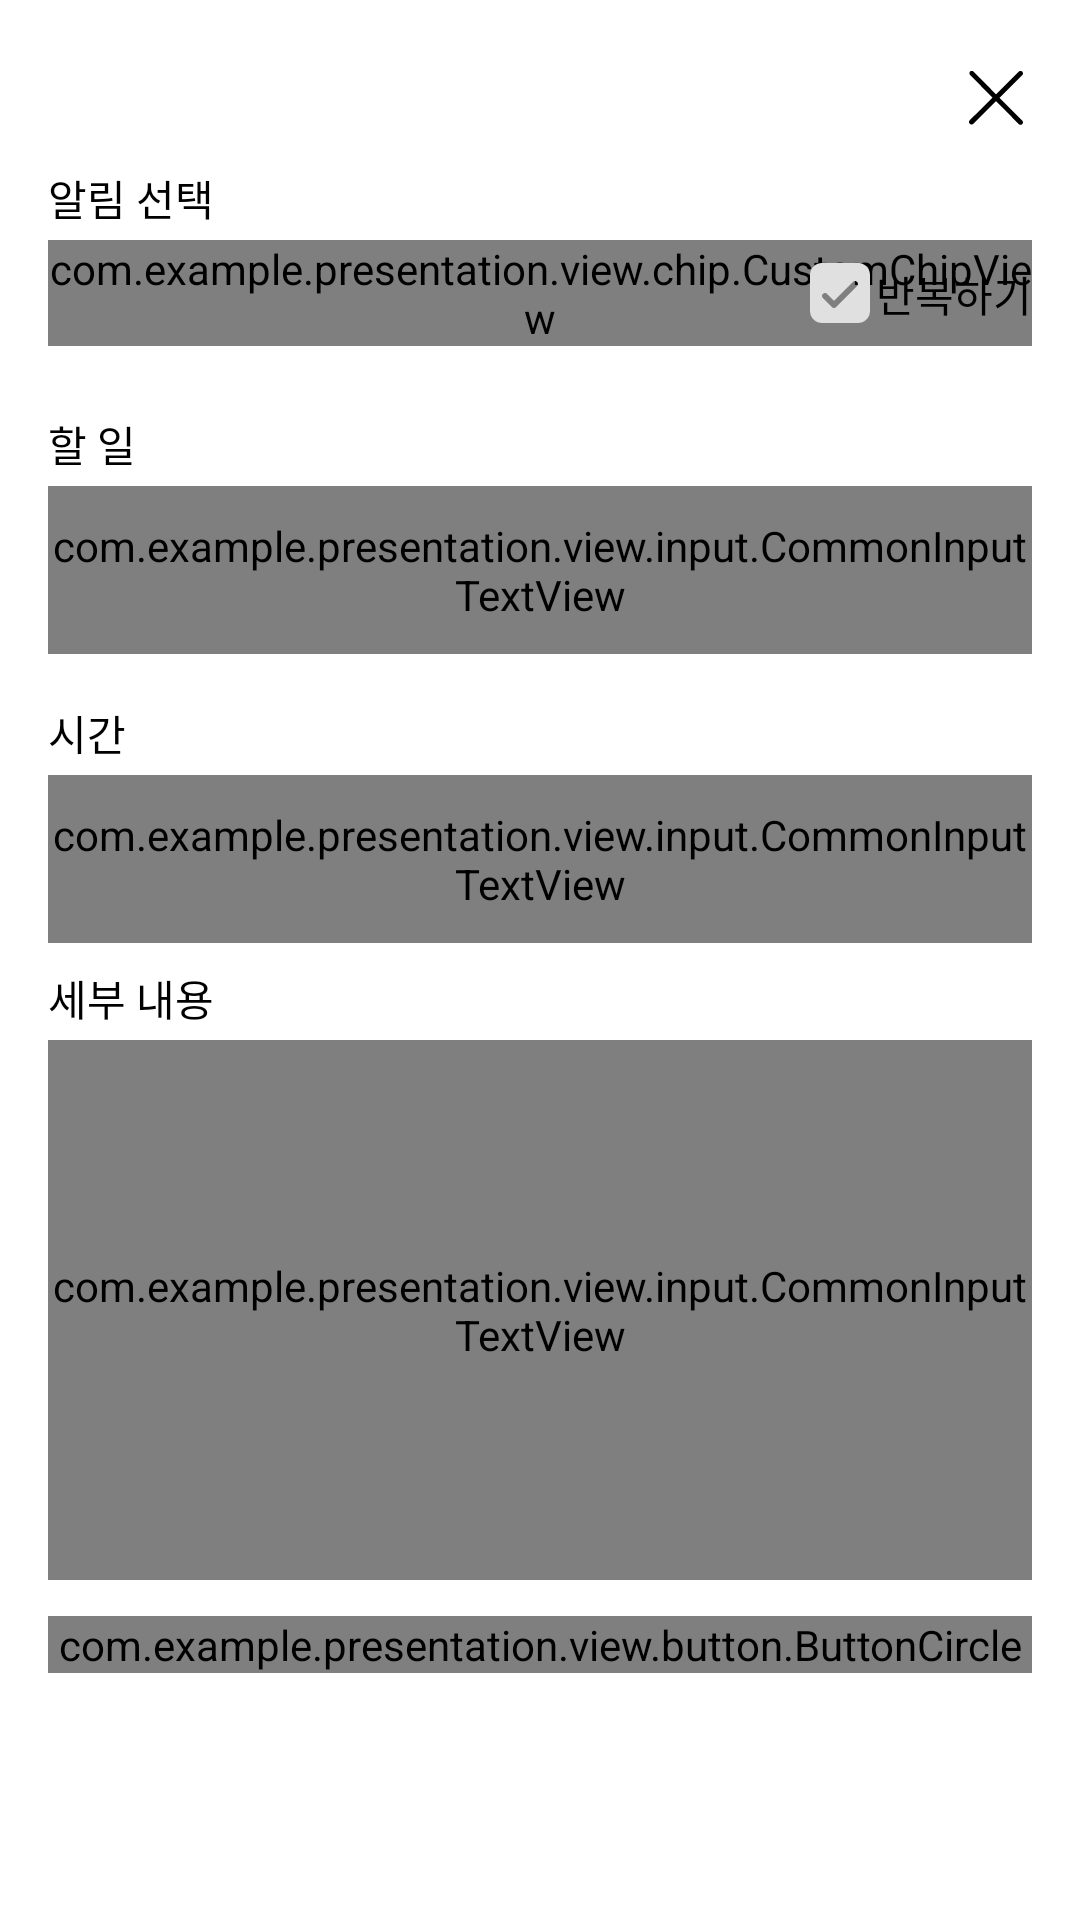

Where to tap for icons on this 1080px x 1920px app screen, as (x=x, y=y):
close: (x=996, y=98)
